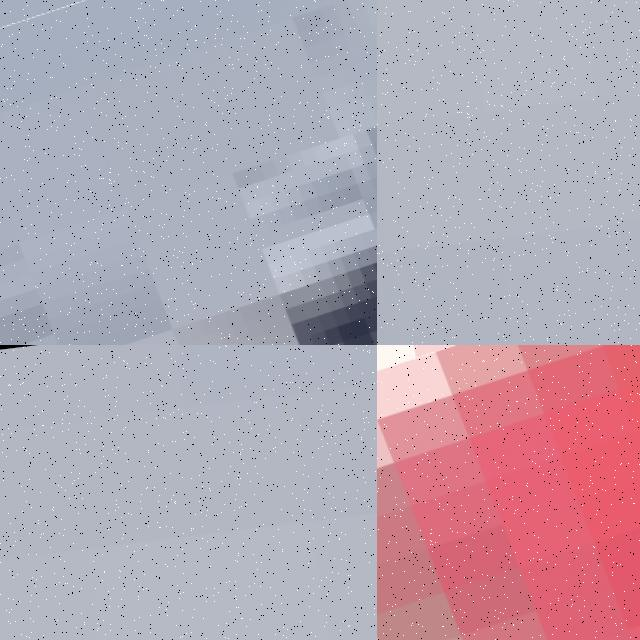drone: (0, 0, 377, 345), (377, 345, 640, 640)
